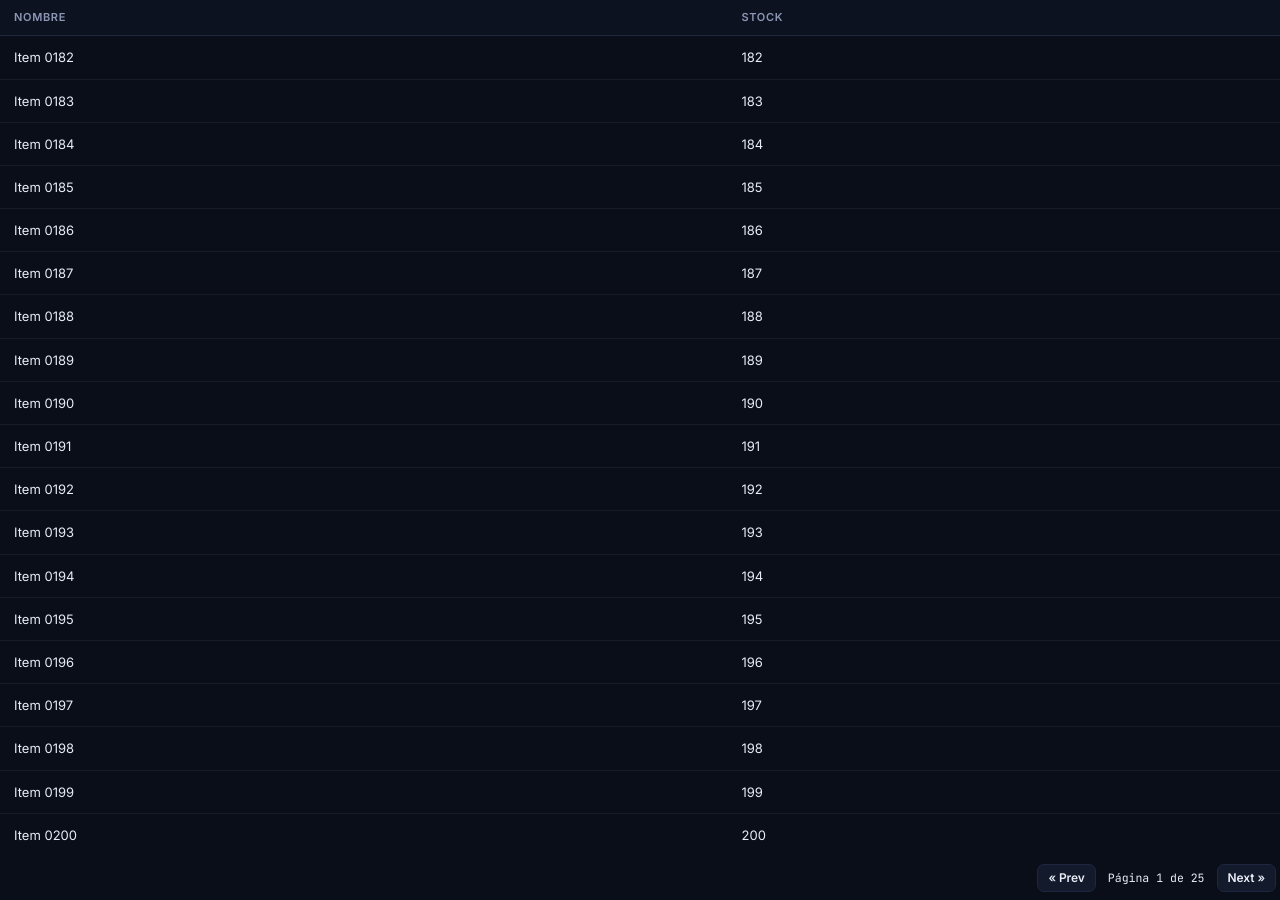
Test case: SortableTable — paginación cliente (E-04) › click en Next » avanza una página y muestra filas distintas
(page scrolled)
Click the button with aria-label "Página siguiente" at (1246, 878), box [1216, 864, 1276, 892]
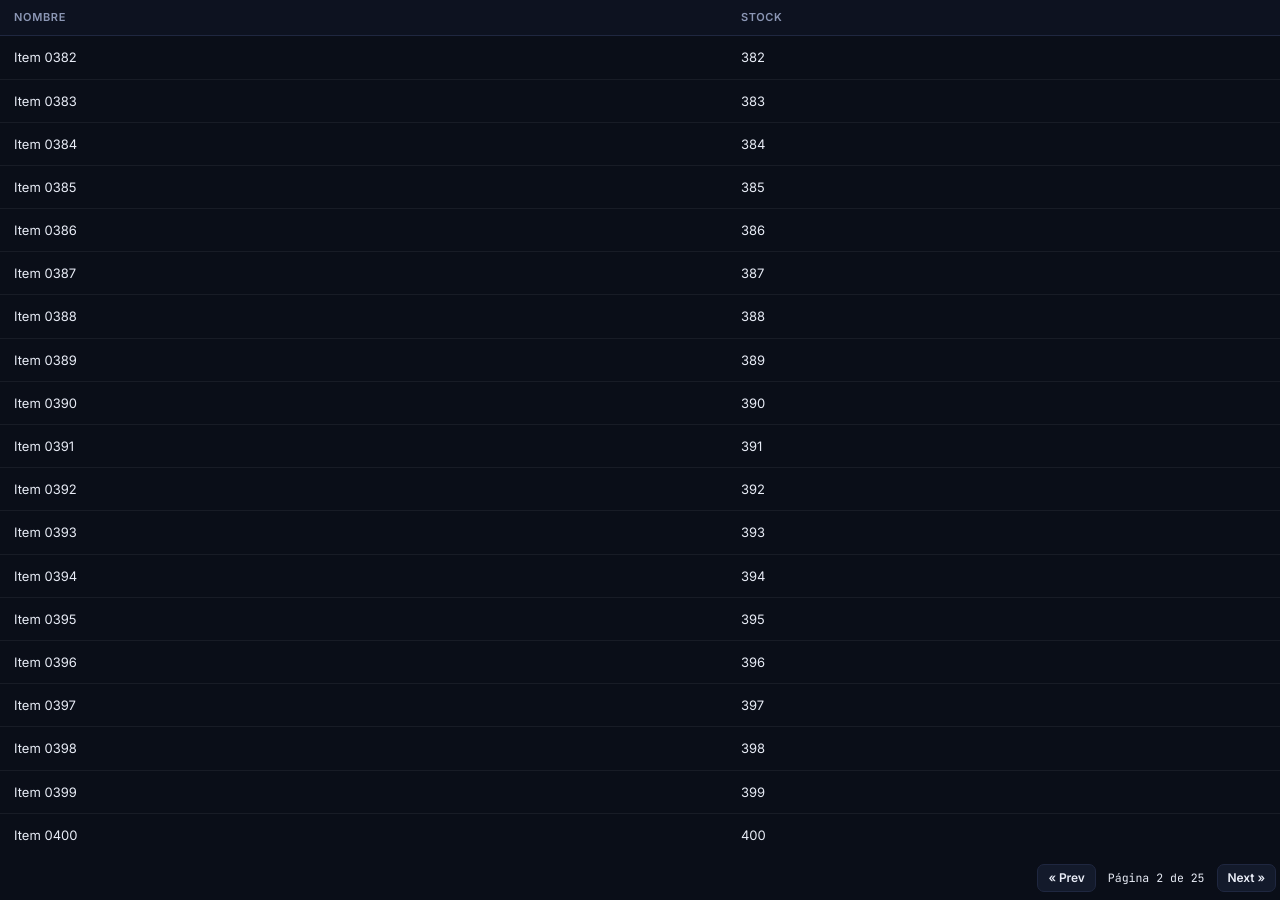
Expected: the navigation bar with class "sortable-table-pager" shows "Página 2 de 25", [1037, 864, 1276, 892]
